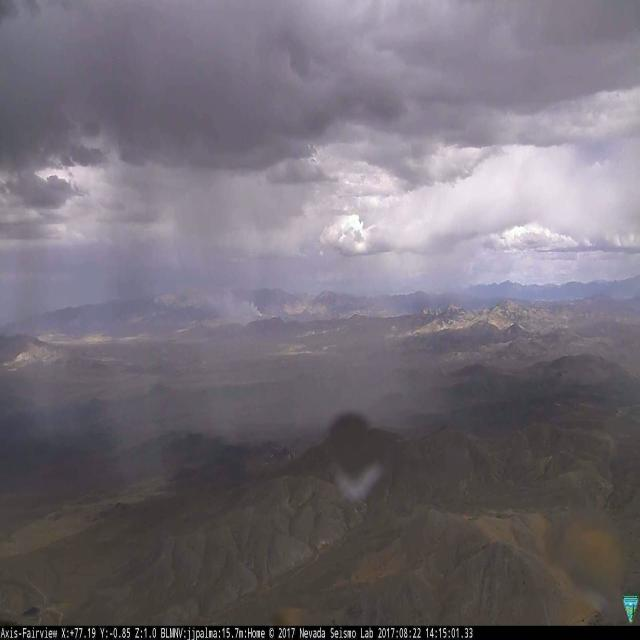smoke: (220, 292, 265, 320)
